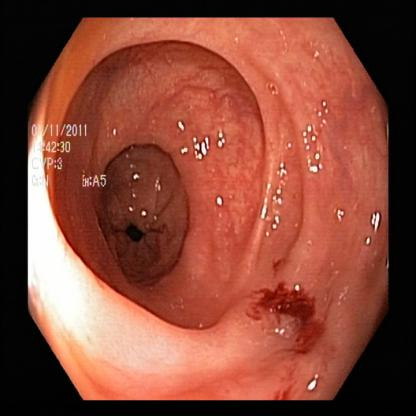Labels: (27, 112, 115, 198)
Polyps: (194, 296, 277, 371)
